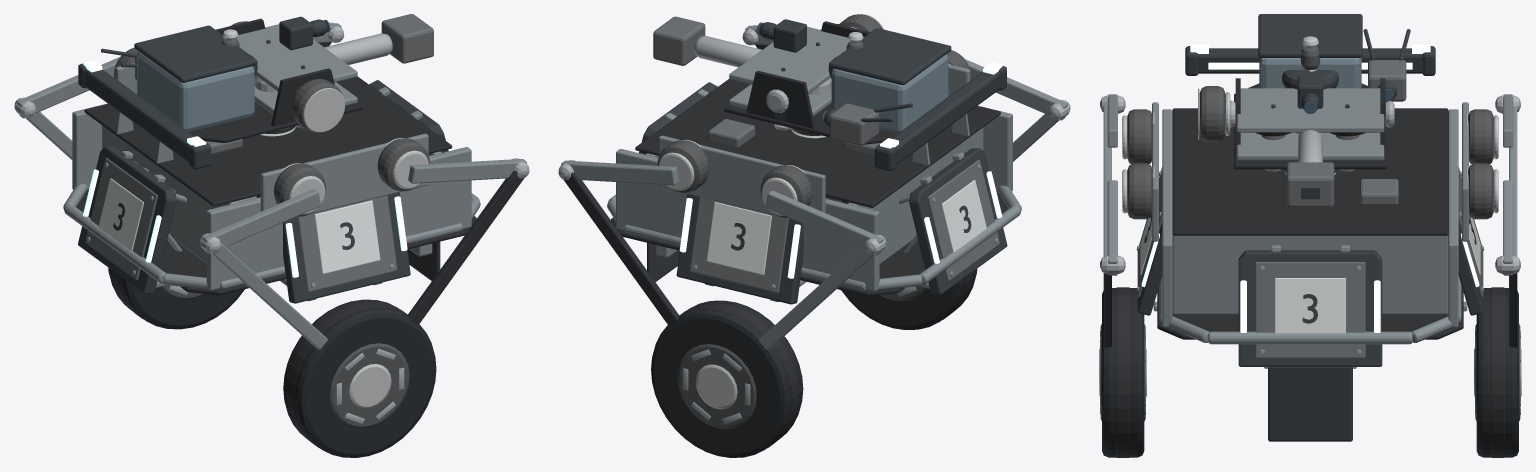
The model's file is robot-304-spec2026v3.glb.
3 views of the same model, side by side, from view 1: azimuth 30°, elevation 25°; view 2: azimuth 150°, elevation 25°; view 3: azimuth 270°, elevation 25° (orthographic). The views are drawn at different scales.
Parts seen in each view (by area): view 1: Chassis_RobotMatteAluminum, Chassis_CarbonPlate, Tyre, MagazineBox, GunPitch_RobotMatteAluminum, MagazineLid, Turret_RobotMatteGraphite, ArmorHitFace.003, ArmorSticker.003, Turret_CarbonPlate, ArmorModuleBody.002, Tyre.001 (+25 smaller); view 2: Chassis_RobotMatteAluminum, Chassis_CarbonPlate, Tyre.001, MagazineBox, GunPitch_RobotMatteAluminum, Turret_RobotMatteGraphite, MagazineLid, Turret_CarbonPlate, ArmorHitFace.001, ArmorSticker.001, ArmorModuleBody.002, Tyre (+26 smaller); view 3: Chassis_CarbonPlate, Chassis_RobotMatteAluminum, GunPitch_RobotMatteAluminum, Chassis_RobotMatteGraphite, ArmorHitFace, Chassis_MotorHousing, ArmorModuleBody, MagazineLid, Tyre, Tyre.001, ArmorSticker, Turret_RobotMatteGraphite (+26 smaller).
Part boxes in pixels (bbox=[...]): Chassis_RobotMatteAluminum: bbox=[63, 62, 480, 290]; Chassis_CarbonPlate: bbox=[76, 76, 476, 295]; Tyre: bbox=[283, 299, 436, 457]; MagazineBox: bbox=[137, 51, 254, 131]; GunPitch_RobotMatteAluminum: bbox=[236, 24, 357, 113]; MagazineLid: bbox=[134, 25, 257, 82]; Turret_RobotMatteGraphite: bbox=[78, 48, 254, 169]; ArmorHitFace.003: bbox=[297, 195, 397, 292]; ArmorSticker.003: bbox=[314, 200, 380, 274]; Turret_CarbonPlate: bbox=[188, 18, 362, 142]; ArmorModuleBody.002: bbox=[78, 146, 176, 294]; Tyre.001: bbox=[108, 267, 244, 329]; Chassis_RobotMatteAluminum: bbox=[607, 65, 1021, 291]; Chassis_CarbonPlate: bbox=[611, 79, 1008, 296]; Tyre.001: bbox=[651, 300, 803, 457]; MagazineBox: bbox=[831, 54, 948, 133]; GunPitch_RobotMatteAluminum: bbox=[729, 26, 849, 116]; Turret_RobotMatteGraphite: bbox=[773, 66, 1006, 171]; MagazineLid: bbox=[829, 28, 951, 85]; Turret_CarbonPlate: bbox=[724, 21, 896, 144]; ArmorHitFace.001: bbox=[689, 197, 788, 293]; ArmorSticker.001: bbox=[706, 202, 771, 275]; ArmorModuleBody.002: bbox=[909, 148, 1007, 295]; Tyre: bbox=[841, 269, 977, 329]; Chassis_CarbonPlate: bbox=[1157, 108, 1463, 339]; Chassis_RobotMatteAluminum: bbox=[1152, 102, 1468, 344]; GunPitch_RobotMatteAluminum: bbox=[1236, 88, 1384, 160]; Chassis_RobotMatteGraphite: bbox=[1268, 367, 1352, 441]; ArmorHitFace: bbox=[1255, 262, 1365, 358]; Chassis_MotorHousing: bbox=[1127, 109, 1493, 219]; ArmorModuleBody: bbox=[1238, 250, 1382, 366]; MagazineLid: bbox=[1258, 14, 1362, 57]; Tyre: bbox=[1102, 288, 1144, 457]; Tyre.001: bbox=[1476, 288, 1518, 457]; ArmorSticker: bbox=[1275, 278, 1345, 333]; Turret_RobotMatteGraphite: bbox=[1185, 29, 1435, 138].
Size of the model in its own units: 0.4681 by 0.5061 by 0.496.
